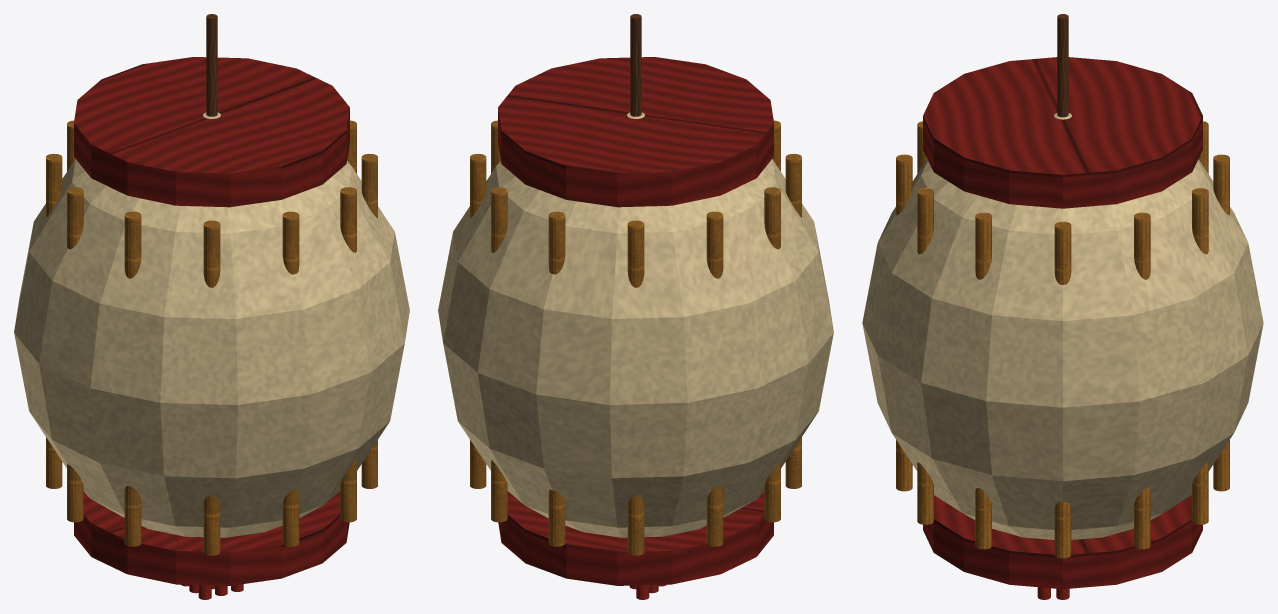
The model's file is hanging_lantern.glb.
3 views of the same model, side by side, from view 1: azimuth 30°, elevation 25°; view 2: azimuth 150°, elevation 25°; view 3: azimuth 270°, elevation 25° (orthographic).
Parts seen in each view (by area): view 1: hanging_lantern_Paper, hanging_lantern_Lacquer, hanging_lantern_Brass, hanging_lantern_Walnut, hanging_lantern_Brocade; view 2: hanging_lantern_Paper, hanging_lantern_Lacquer, hanging_lantern_Brass, hanging_lantern_Walnut; view 3: hanging_lantern_Paper, hanging_lantern_Lacquer, hanging_lantern_Brass, hanging_lantern_Walnut.
Part boxes in pixels (x1,y1,x2,y2): hanging_lantern_Paper: (14, 112, 409, 537); hanging_lantern_Lacquer: (74, 57, 349, 585); hanging_lantern_Brass: (46, 120, 377, 555); hanging_lantern_Walnut: (206, 14, 217, 116); hanging_lantern_Brocade: (181, 584, 243, 599); hanging_lantern_Paper: (438, 112, 833, 537); hanging_lantern_Lacquer: (498, 57, 773, 585); hanging_lantern_Brass: (470, 120, 801, 555); hanging_lantern_Walnut: (630, 14, 641, 116); hanging_lantern_Paper: (862, 113, 1263, 539); hanging_lantern_Lacquer: (923, 57, 1202, 589); hanging_lantern_Brass: (896, 121, 1229, 558); hanging_lantern_Walnut: (1057, 14, 1068, 117).
Bounding box in the file's own units: 0.86 × 1.36 × 0.86.
5 materials, 5 textured.
